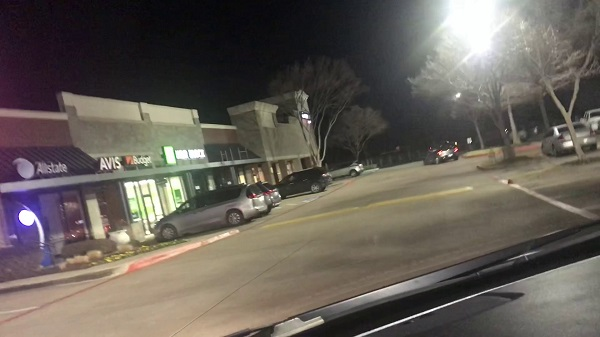car: (153, 187, 255, 238), (539, 125, 598, 157), (274, 167, 331, 192), (247, 181, 281, 216), (422, 144, 461, 164), (328, 162, 364, 176)
